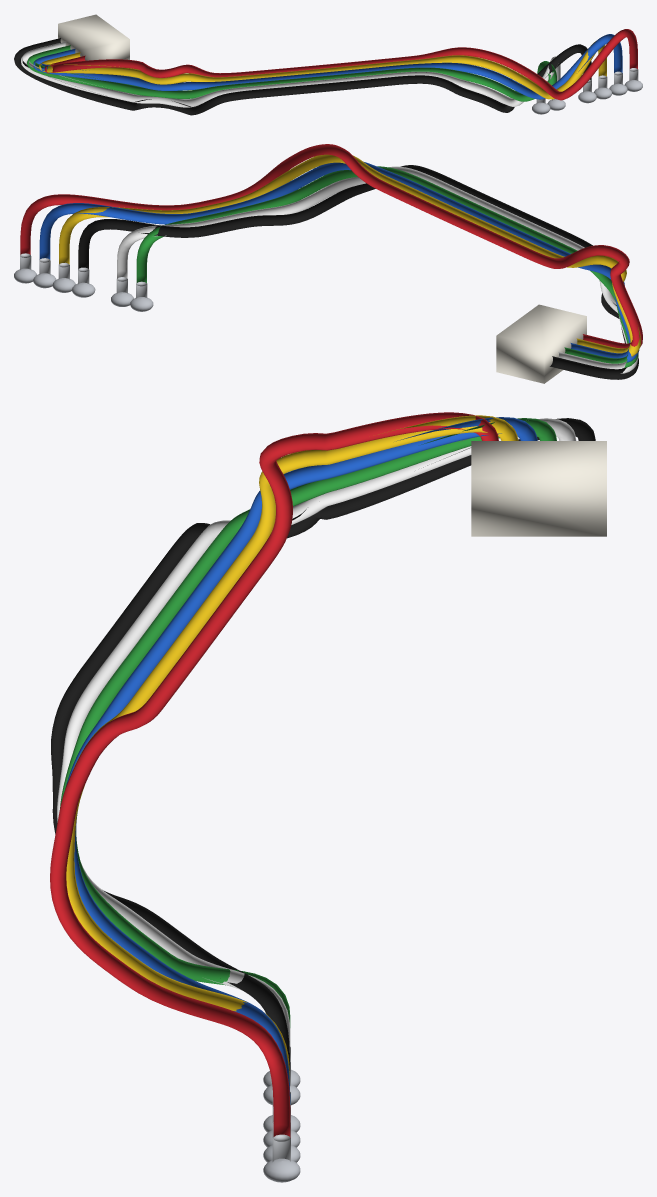
Rendered from body.glb.
3 views of the same model, one above another, from view 1: azimuth 30°, elevation 25°; view 2: azimuth 150°, elevation 25°; view 3: azimuth 270°, elevation 25° (orthographic). The views are drawn at different scales.
Visible parts, largest first — view 1: conductor_p6, conductor_p1, conductor_p3, conductor_p2, conductor_p5, conductor_p4, end_gnss_housing, end_fc_joint_p4, end_fc_joint_p6, end_fc_joint_p2, end_fc_joint_p3, end_fc_joint_p1 (+1 smaller); view 2: conductor_p1, conductor_p6, conductor_p3, conductor_p2, end_gnss_housing, conductor_p5, conductor_p4; view 3: conductor_p1, end_gnss_housing, conductor_p2, conductor_p3, conductor_p6, conductor_p4, conductor_p5.
Part boxes in pixels (x1=…): conductor_p6: x1=14, y1=38, x2=591, y2=115; conductor_p1: x1=44, y1=29, x2=637, y2=100; conductor_p3: x1=33, y1=34, x2=622, y2=99; conductor_p2: x1=39, y1=41, x2=606, y2=99; conductor_p5: x1=21, y1=41, x2=560, y2=107; conductor_p4: x1=27, y1=45, x2=556, y2=101; end_gnss_housing: x1=58, y1=14, x2=129, y2=60; end_fc_joint_p4: x1=532, y1=102, x2=550, y2=114; end_fc_joint_p6: x1=578, y1=91, x2=596, y2=103; end_fc_joint_p2: x1=593, y1=87, x2=611, y2=99; end_fc_joint_p3: x1=609, y1=83, x2=627, y2=95; end_fc_joint_p1: x1=624, y1=80, x2=642, y2=91; conductor_p1: x1=20, y1=144, x2=642, y2=348; conductor_p6: x1=78, y1=165, x2=638, y2=379; conductor_p3: x1=39, y1=161, x2=639, y2=362; conductor_p2: x1=59, y1=154, x2=640, y2=357; end_gnss_housing: x1=496, y1=304, x2=586, y2=383; conductor_p5: x1=117, y1=166, x2=638, y2=373; conductor_p4: x1=136, y1=166, x2=638, y2=368; conductor_p1: x1=50, y1=412, x2=498, y2=1137; end_gnss_housing: x1=471, y1=441, x2=606, y2=536; conductor_p2: x1=66, y1=415, x2=518, y2=1082; conductor_p3: x1=66, y1=417, x2=537, y2=1104; conductor_p6: x1=51, y1=418, x2=595, y2=1070; conductor_p4: x1=60, y1=418, x2=556, y2=1027; conductor_p5: x1=57, y1=418, x2=576, y2=1061.
Size of the model in its own units: 0.083 by 0.0196 by 0.0359.
